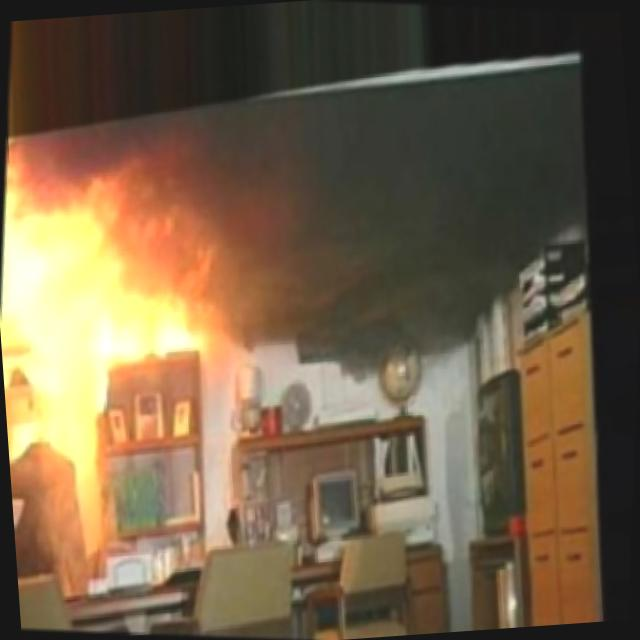fire: (0, 98, 277, 521)
